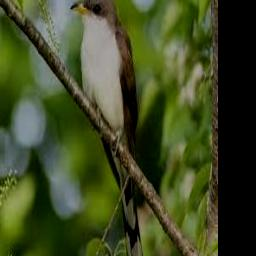Cuckoo: (70, 0, 145, 256)
